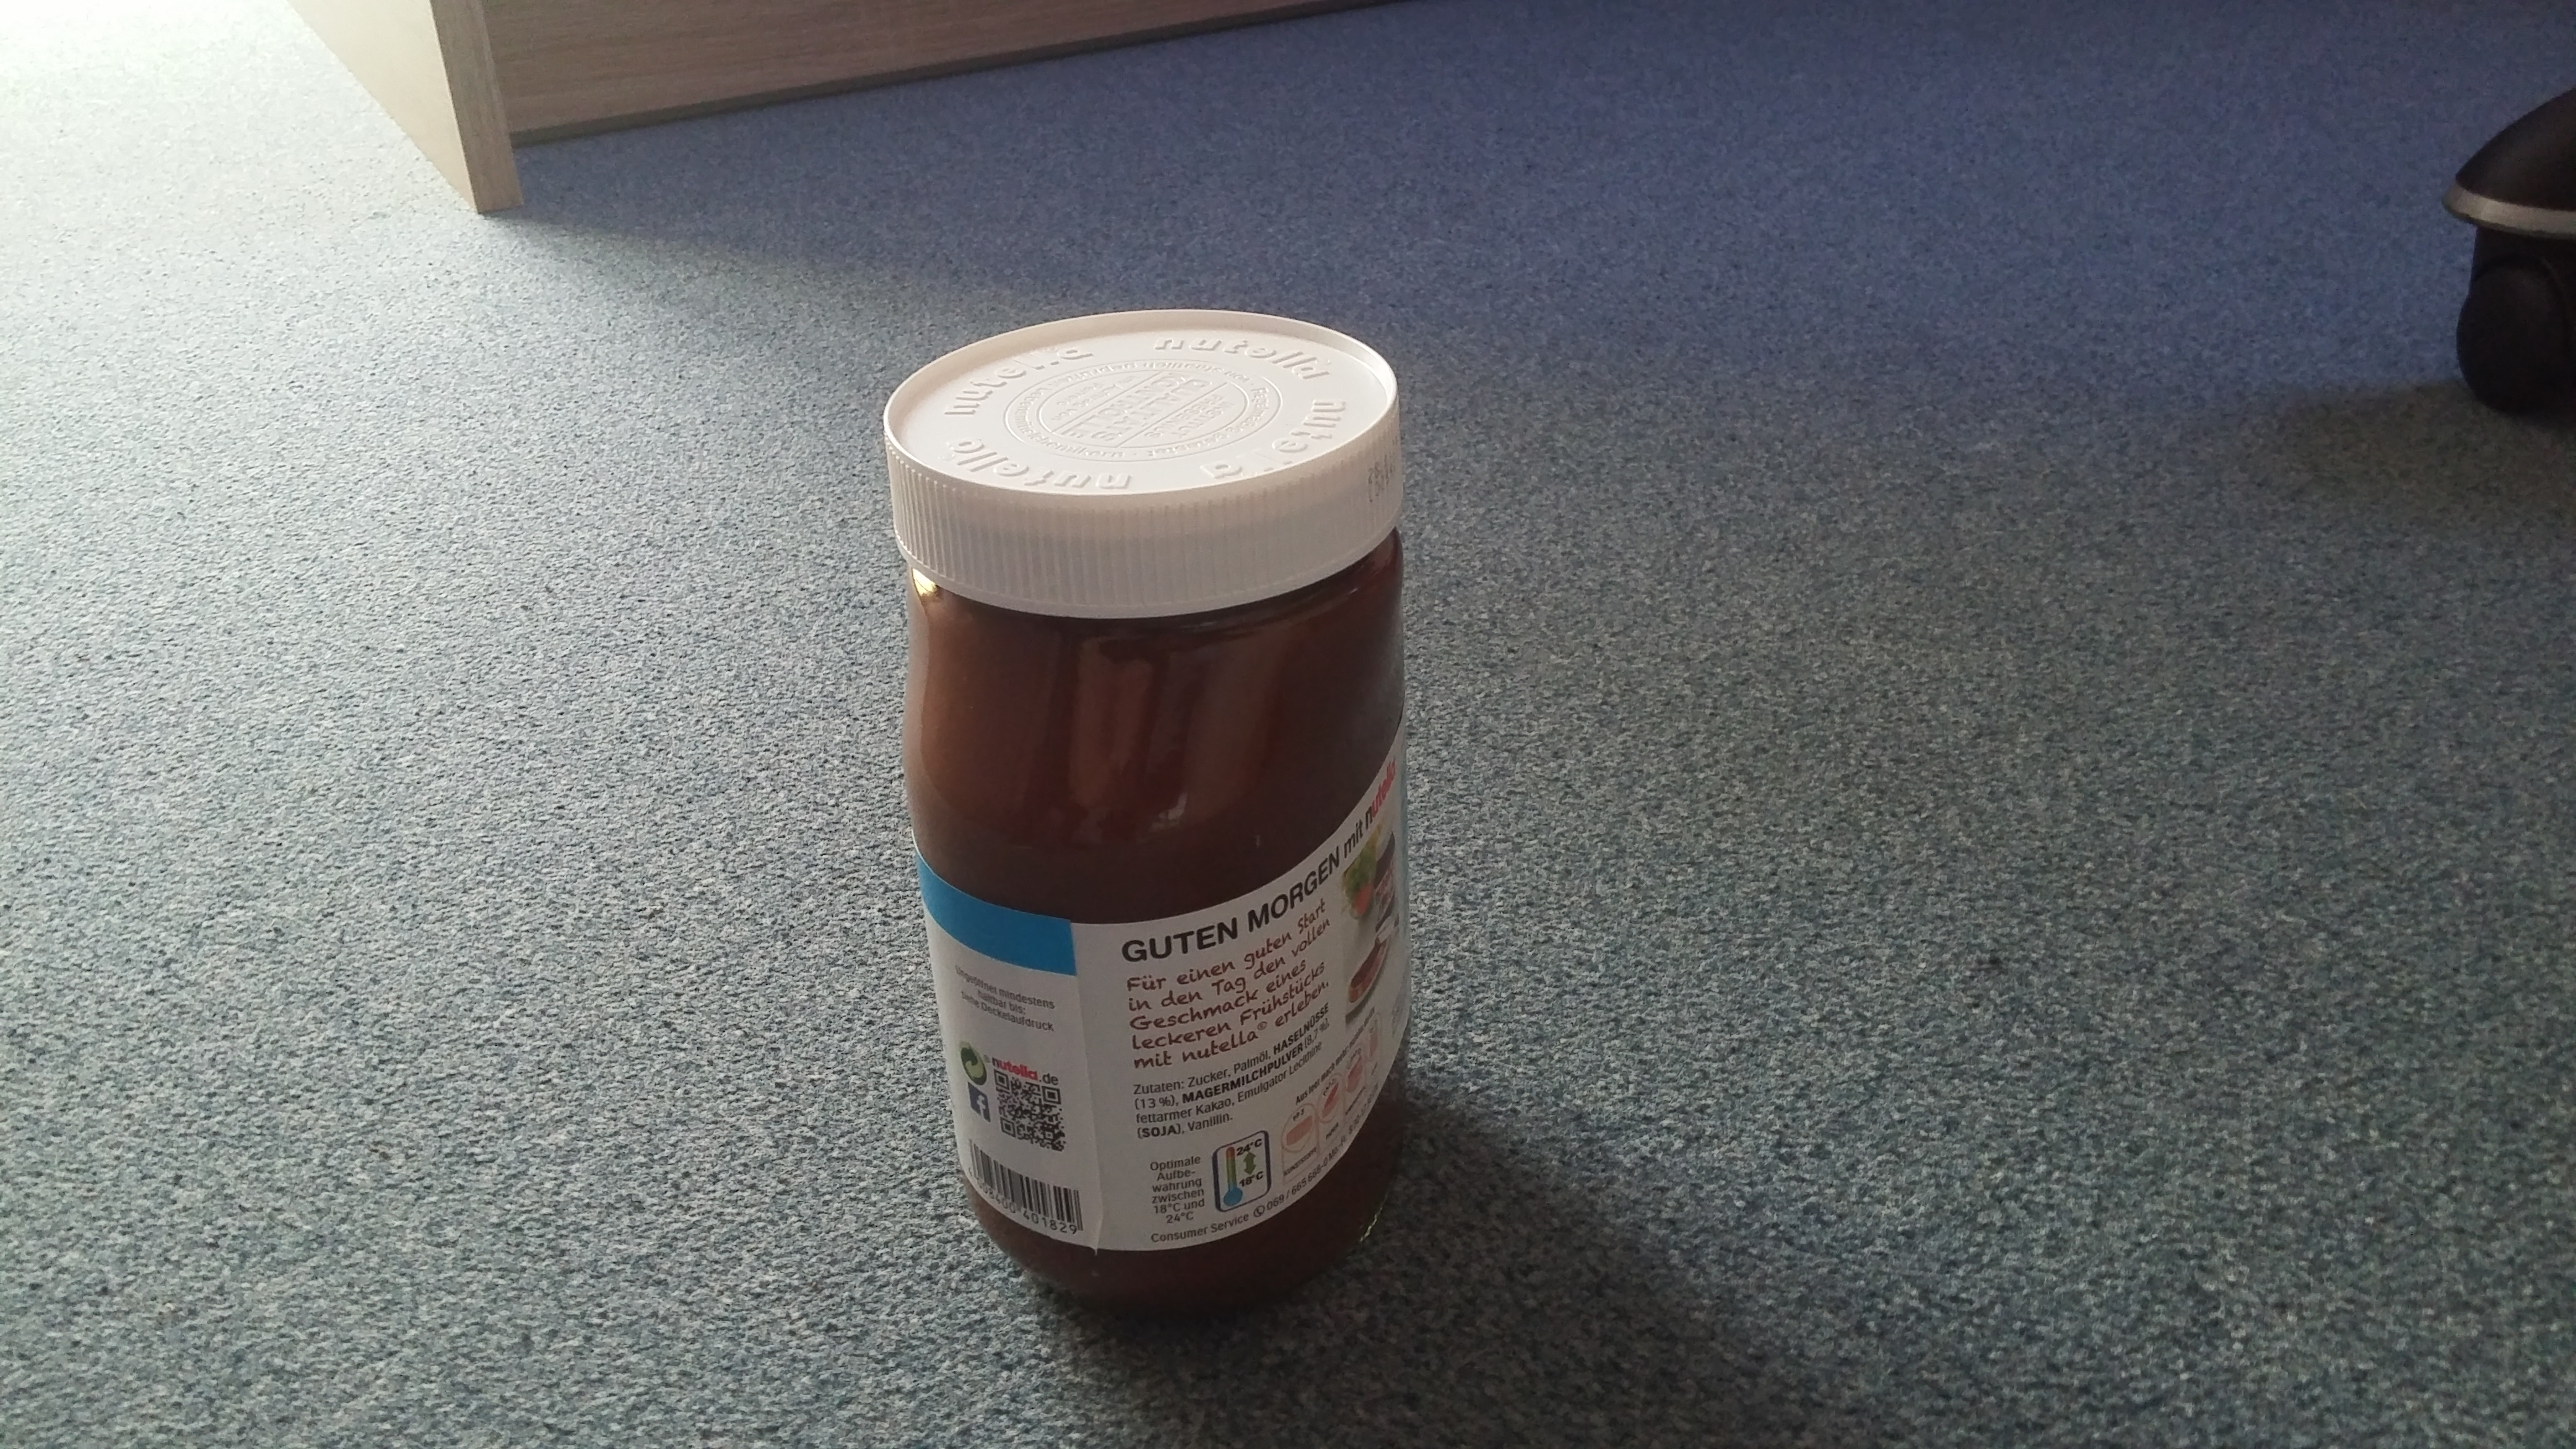nutella: (879, 303, 1422, 1332)
